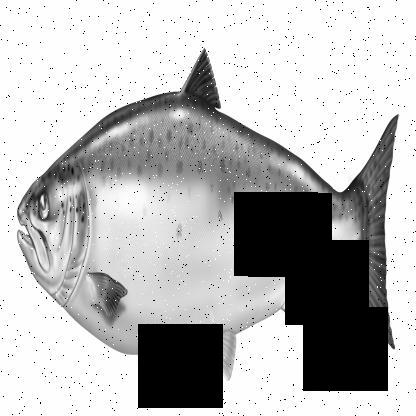fish: (17, 44, 399, 382)
